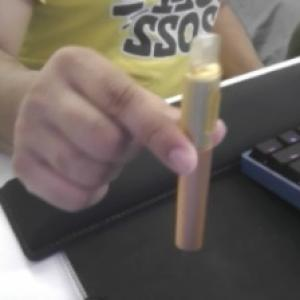Golden-E-Ciggirate: (173, 34, 223, 254)
